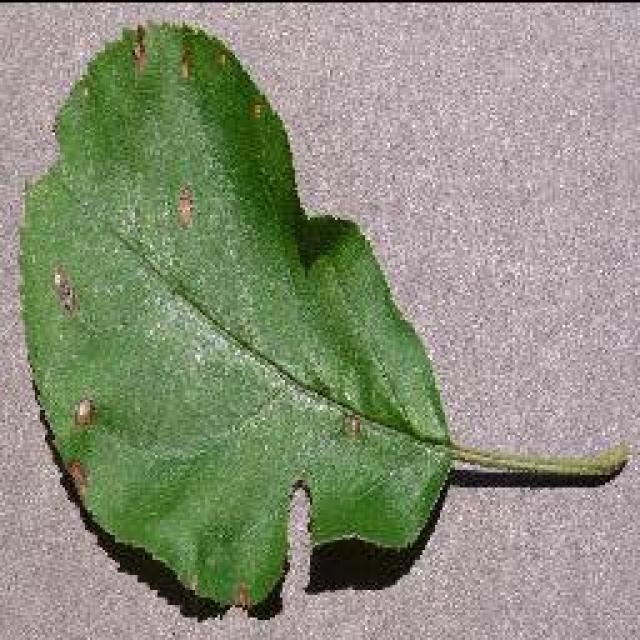Black_rot: (15, 18, 630, 618)
